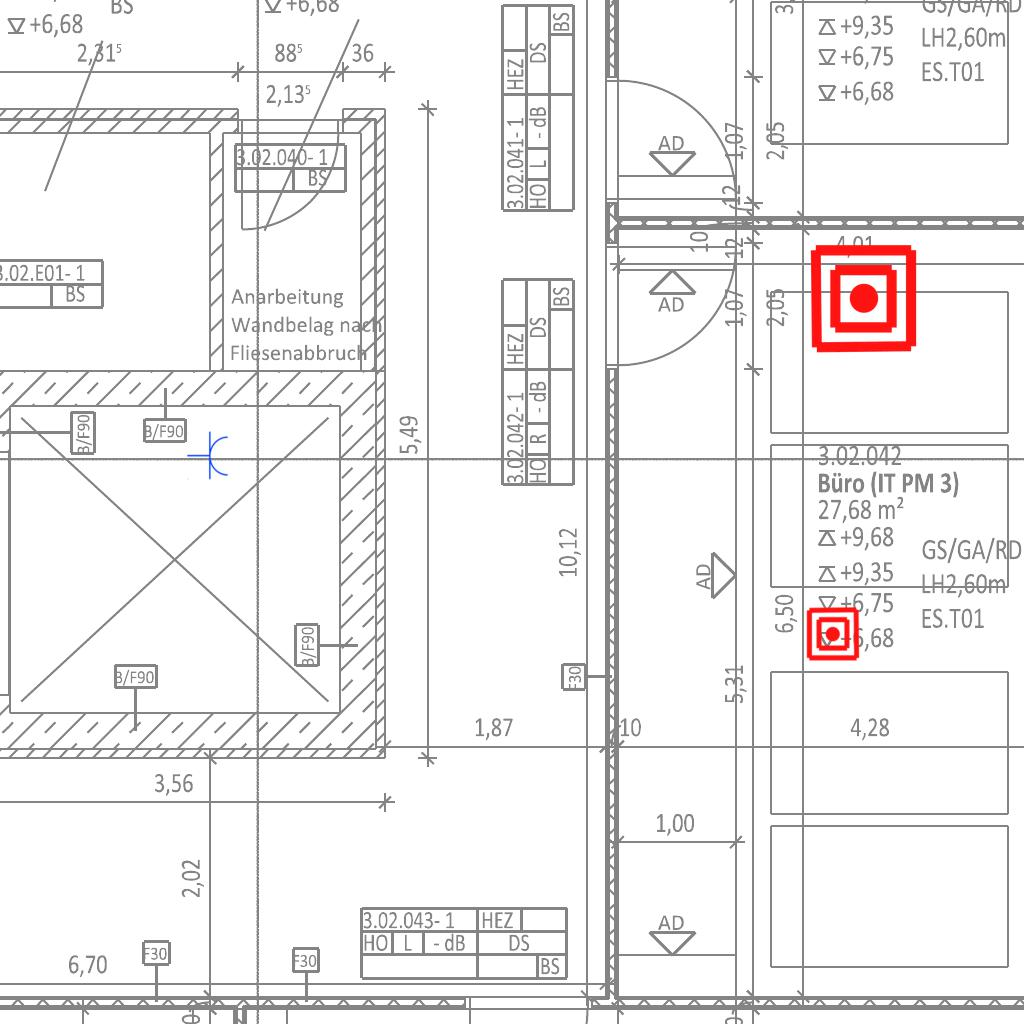NAM-Nichtautomatischer_Melder: (807, 242, 920, 355), (805, 606, 861, 662)
Schukosteckdose_einfach: (187, 431, 230, 481)
